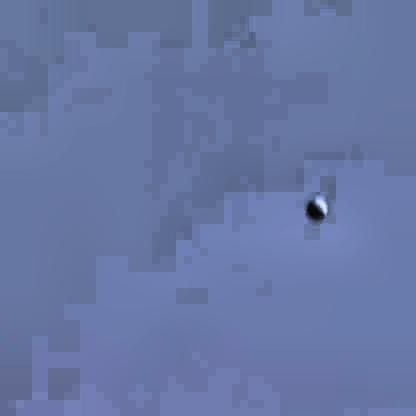golfball: (303, 193, 325, 217)
